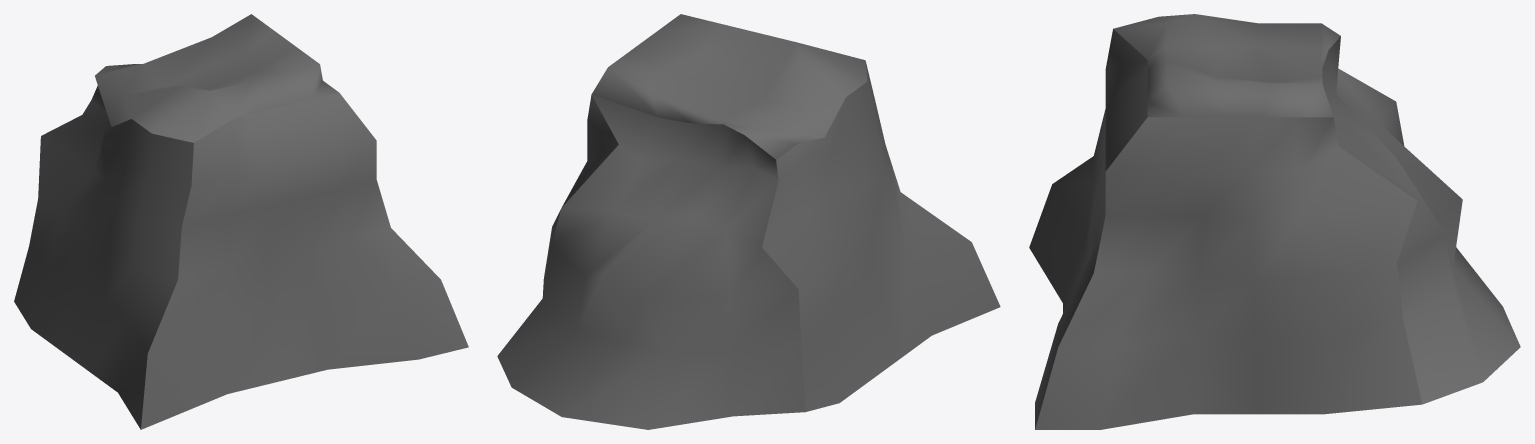
File: rock3.fbx
The picture shows the model from 3 angles, left to right: view 1: azimuth 30°, elevation 25°; view 2: azimuth 150°, elevation 25°; view 3: azimuth 270°, elevation 25°; orthographic projection. The views are drawn at different scales.
Visible parts, largest first — view 1: pCube1; view 2: pCube1; view 3: pCube1.
Part boxes in pixels (x1=…): pCube1: x1=14, y1=14, x2=468, y2=429; pCube1: x1=497, y1=14, x2=1000, y2=429; pCube1: x1=1029, y1=14, x2=1520, y2=429.
Size of the model in its own units: 2.73 by 2.07 by 3.11.
1 material, 1 textured.
